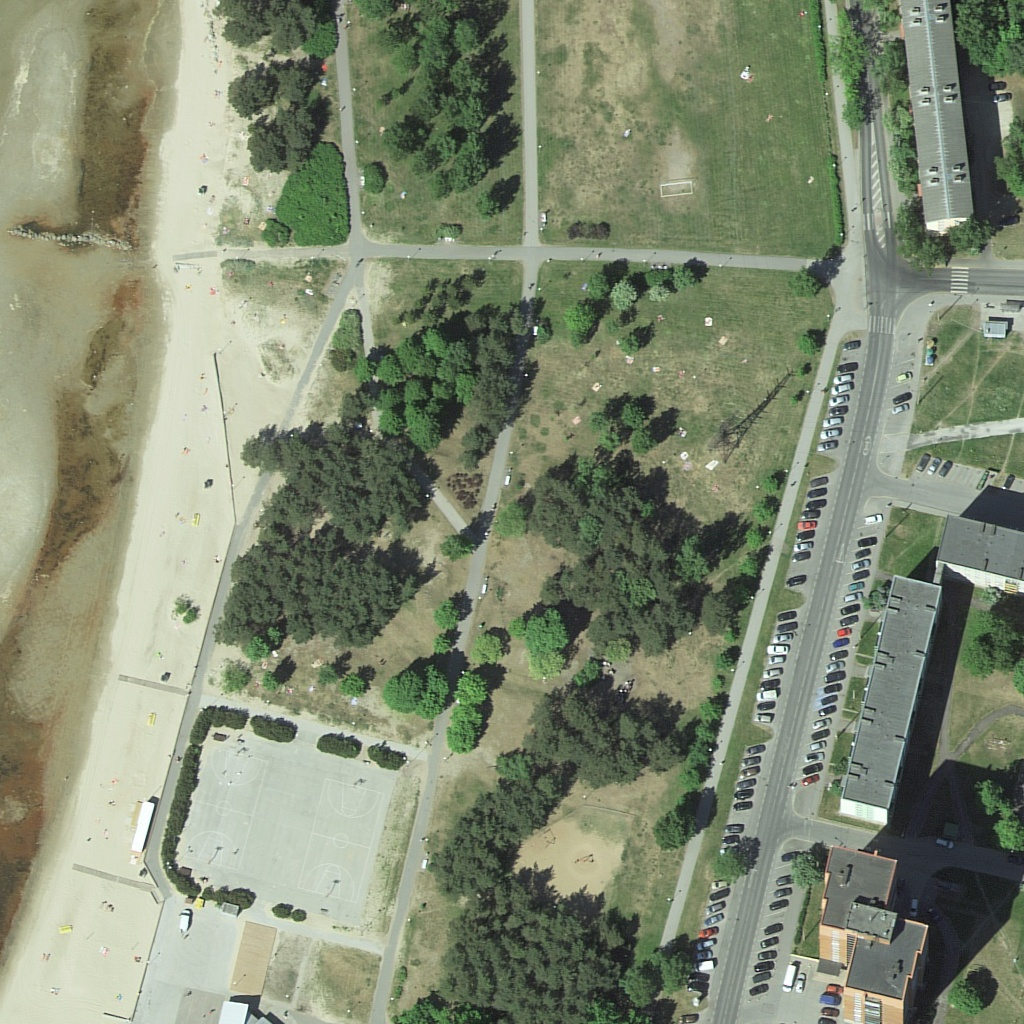building: (843, 576, 940, 824), (822, 844, 930, 1019), (901, 1, 977, 230), (935, 513, 1024, 594)
